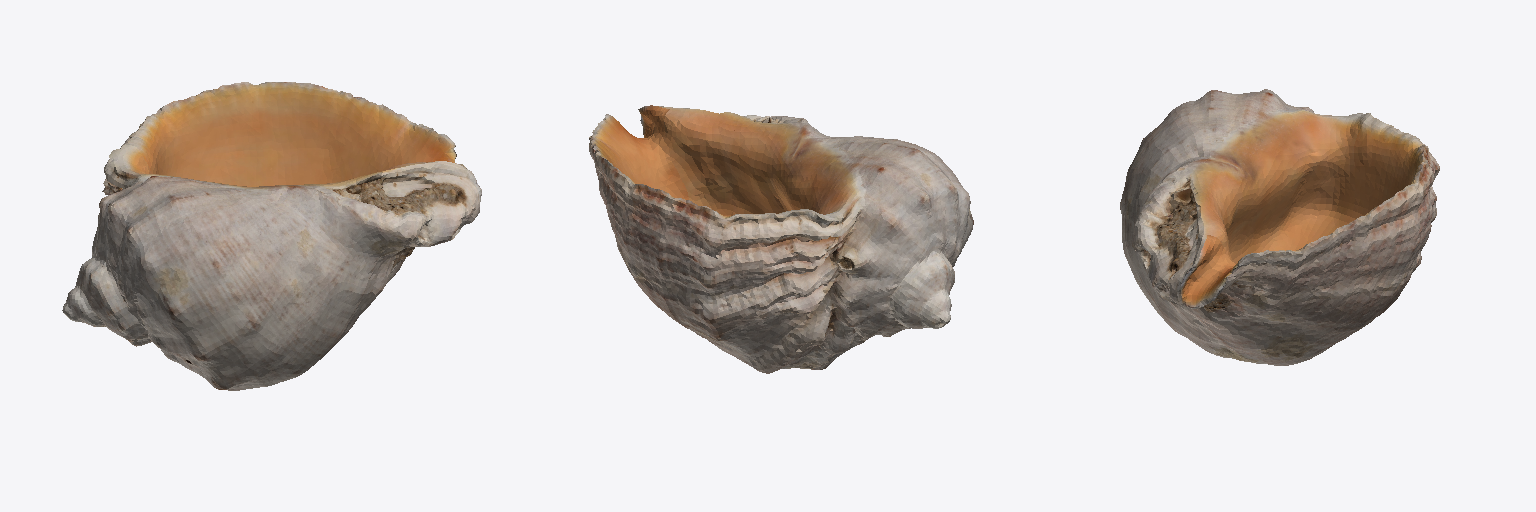
3 renders of one model, left to right at view 1: azimuth 30°, elevation 25°; view 2: azimuth 150°, elevation 25°; view 3: azimuth 270°, elevation 25°, orthographic.
Visible parts, largest first — view 1: Obj3d66_[number redacted]_41_754; view 2: Obj3d66_[number redacted]_41_754; view 3: Obj3d66_[number redacted]_41_754.
Part boxes in pixels (x1,y1,x2,y2): Obj3d66_[number redacted]_41_754: (62, 82, 481, 390); Obj3d66_[number redacted]_41_754: (589, 105, 973, 373); Obj3d66_[number redacted]_41_754: (1120, 89, 1439, 365).
Bounding box in the file's own units: 95.31 × 53.6 × 70.77.
Materials: 1 (1 with a texture image).